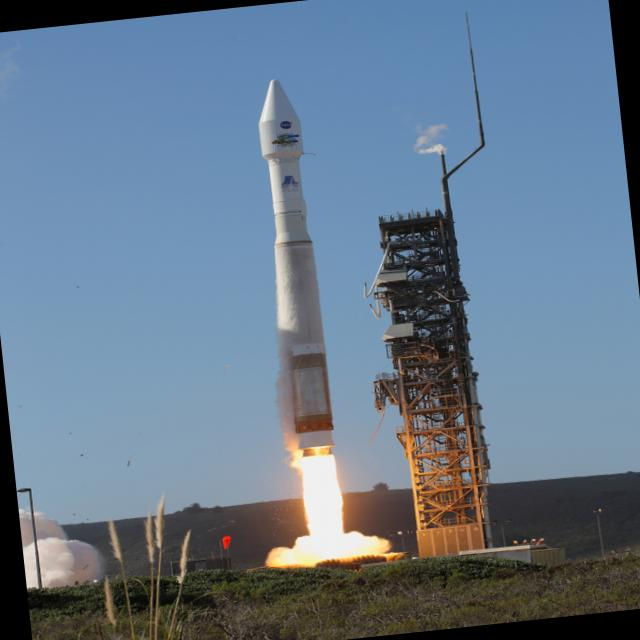rocket: (237, 66, 376, 568)
